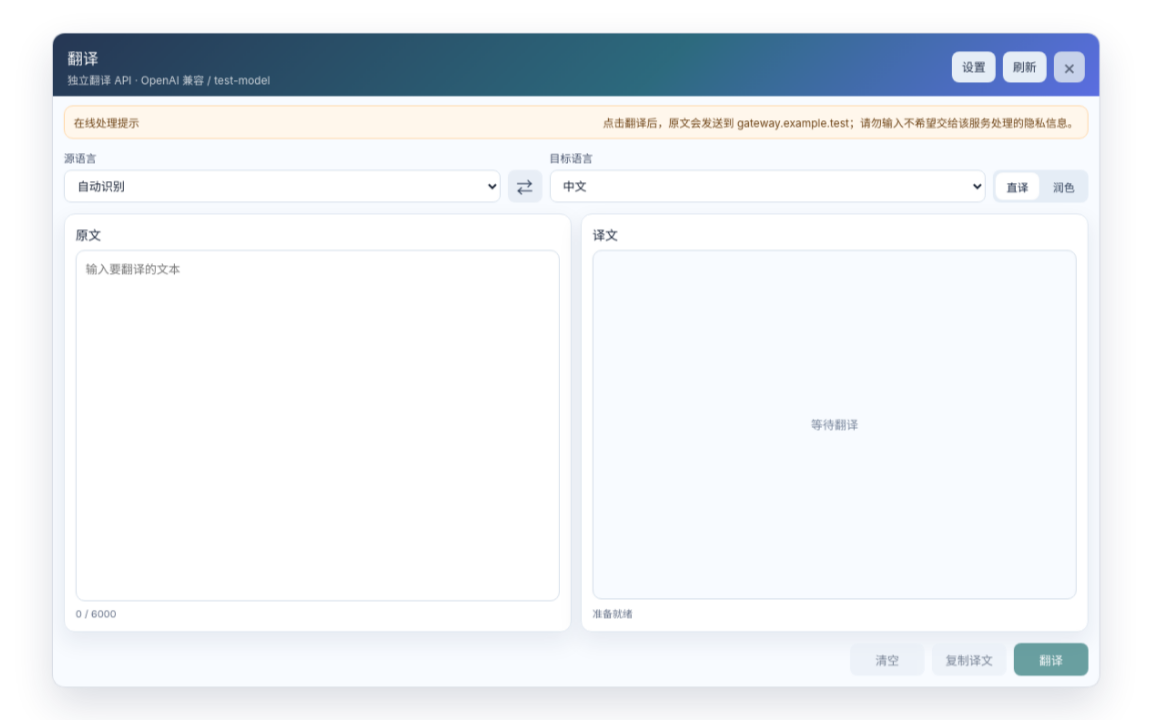
Test: TranslatorWindow › updates the next-service summary on settings events while preserving the actual request result summary
In the text box labelled "原文 0 / 6000": (318, 426) left=76, top=250, right=560, bottom=601, type "测试原文"
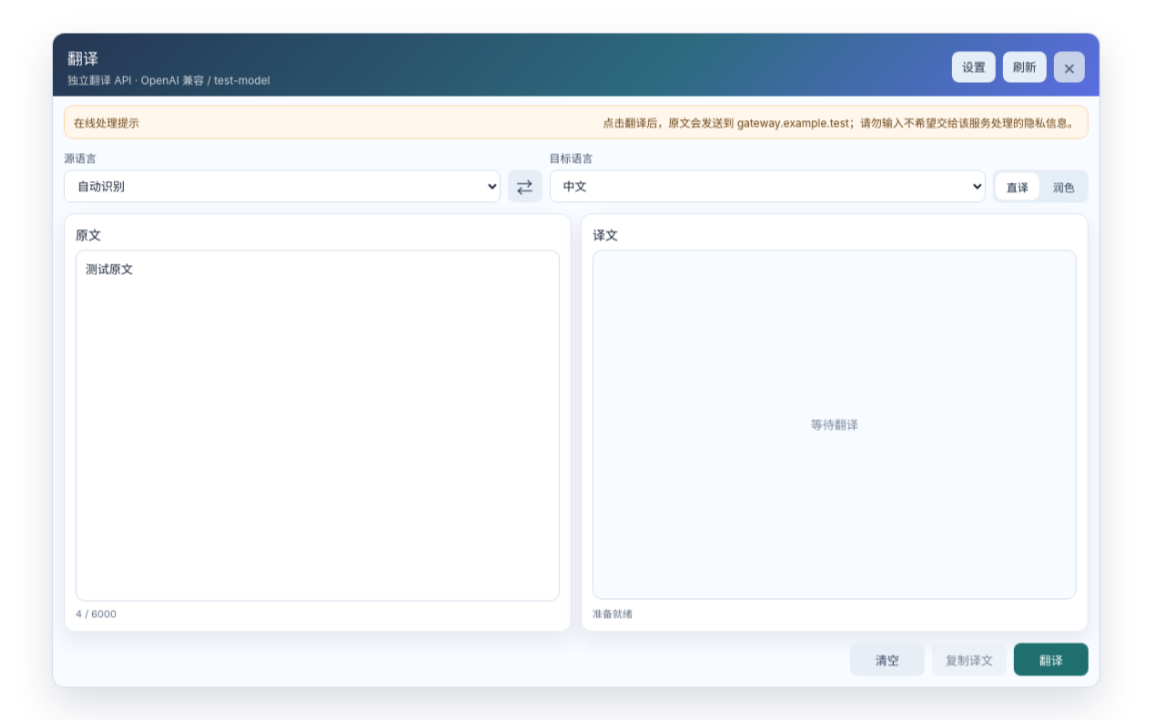
Click the button with class "translator-primary-button": (1051, 659) left=1014, top=643, right=1088, bottom=676
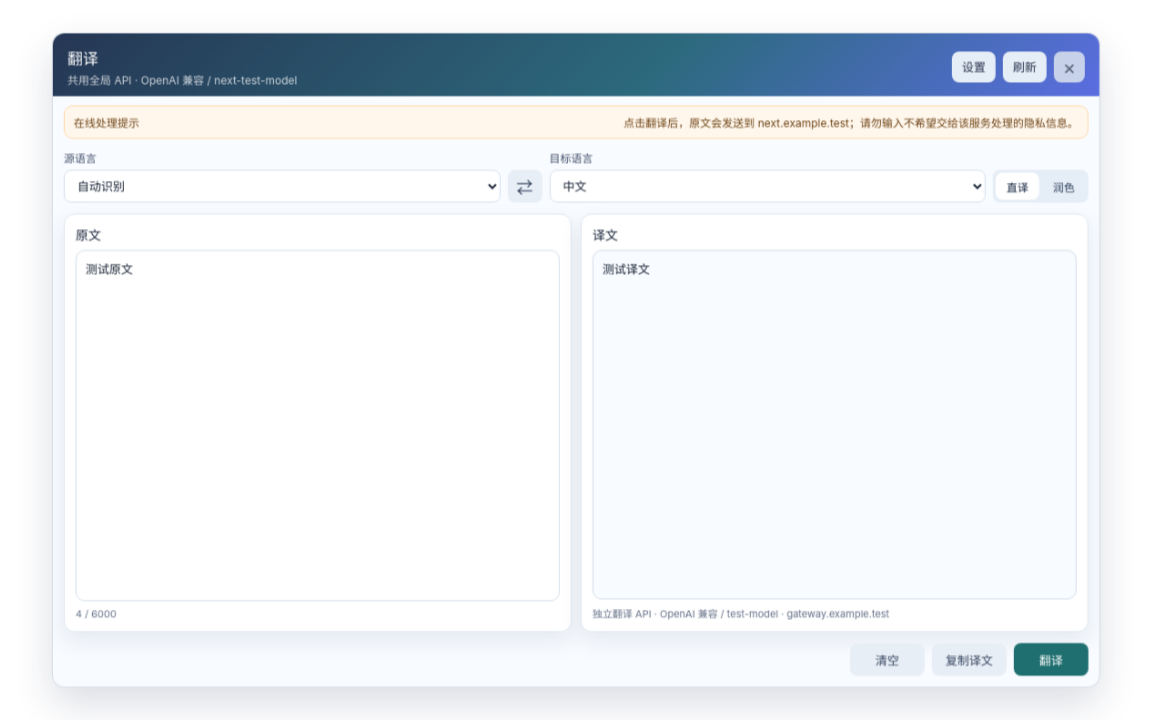
Check: the text "共用全局 API · OpenAI 兼容 / next-test-model" is shown, box left=67, top=72, right=297, bottom=87
Check: the message "独立翻译 API · OpenAI 兼容 / test-model · gateway.example.test" is shown, box left=592, top=608, right=889, bottom=620
Check: the element with class "translator-notice" shows "next.example.test", box left=624, top=116, right=1078, bottom=130
